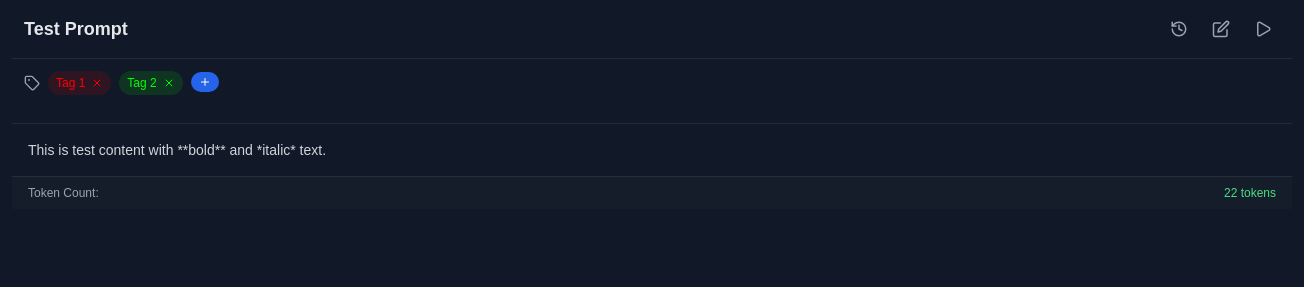
Test: PromptEditor › Save and Cancel › should cancel editing when cancel button is clicked
Click edit button to enter edit mode
Click the button titled "Edit prompt".
click(1221, 29)  # box [1204, 12, 1238, 46]
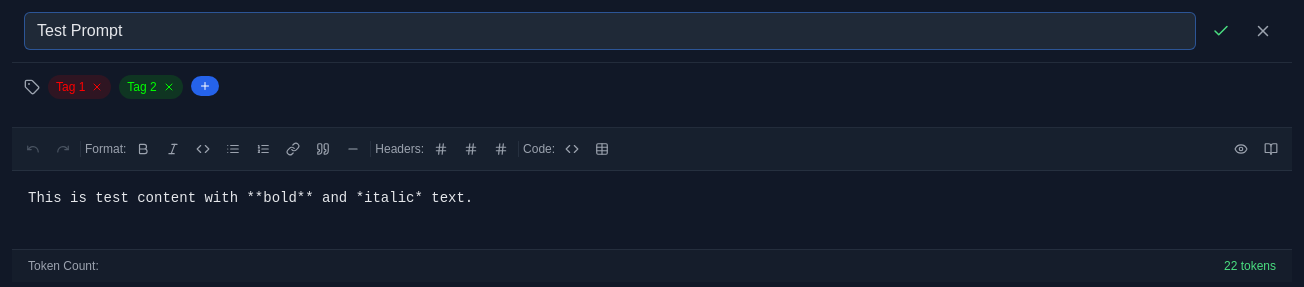
Replace the text in the field showing "Test Prompt" with "This won't be saved" at (610, 31), box [24, 12, 1196, 50]
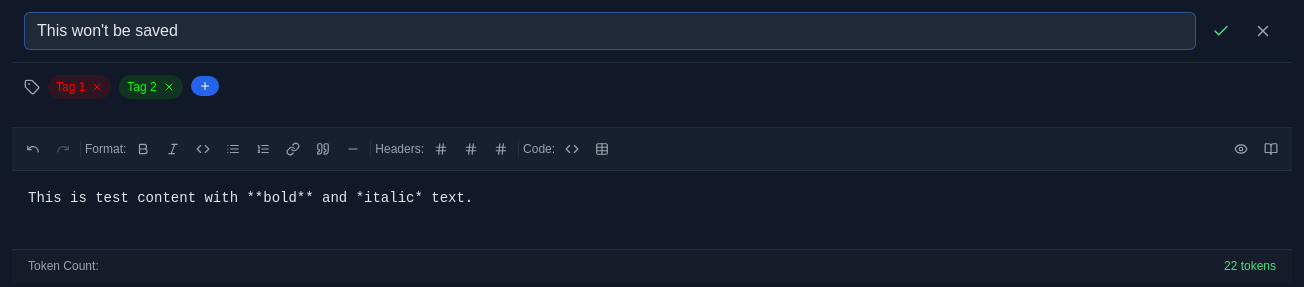
Click the button titled "Cancel editing".
click(1263, 31)  # box [1246, 14, 1280, 48]
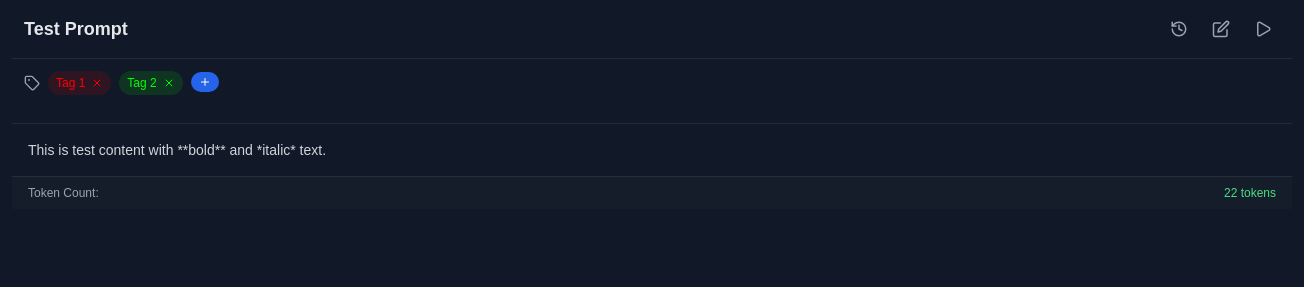
Expected: the field showing "This won't be saved" is not shown
Expected: the heading "Test Prompt" is shown, [24, 15, 128, 43]
